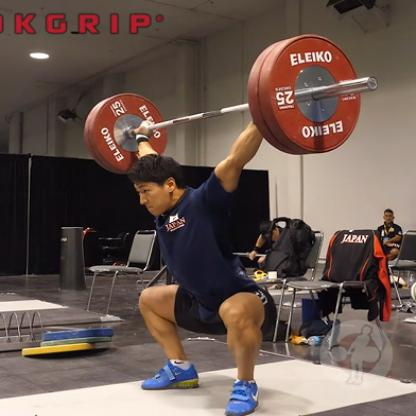Barbell: (237, 26, 374, 161)
